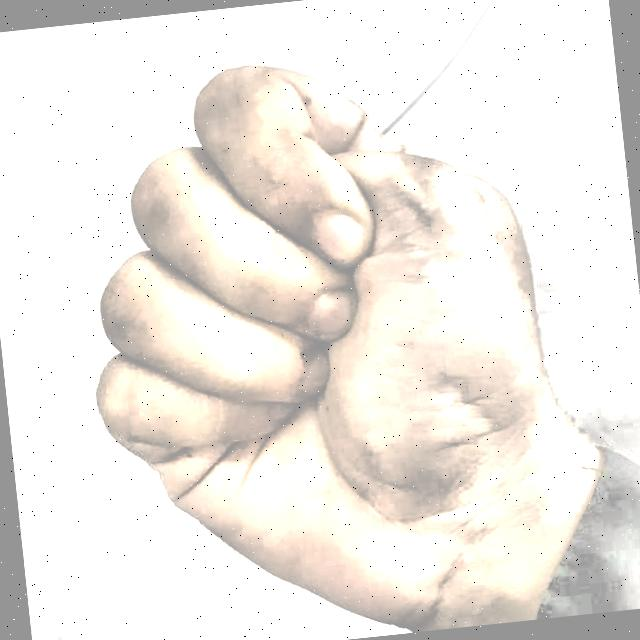To: (46, 19, 594, 640)
